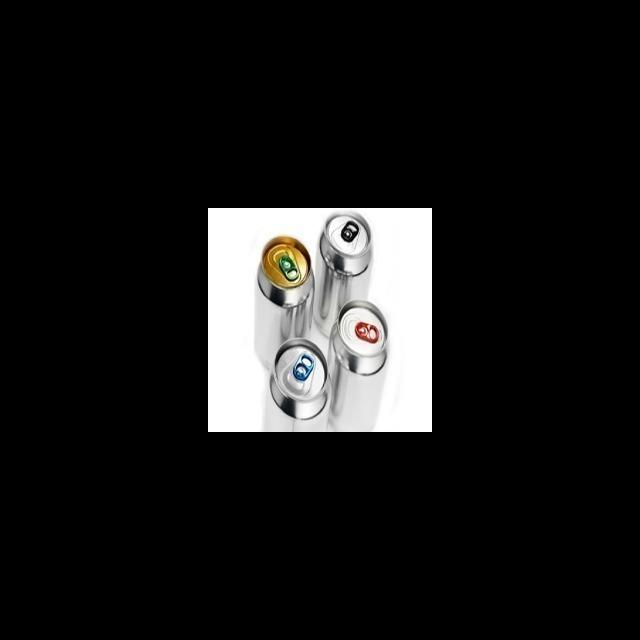metal: (257, 232, 319, 372), (318, 208, 381, 339), (330, 300, 392, 432), (264, 335, 334, 432)
